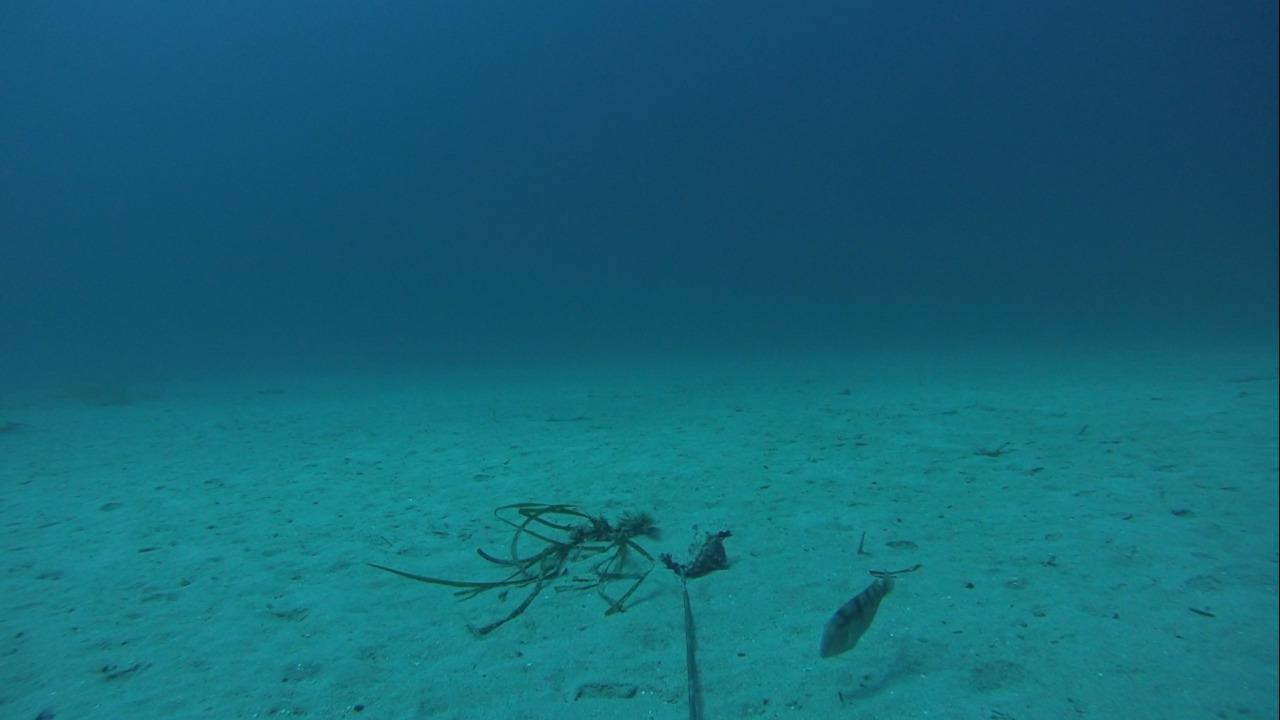raor: (815, 572, 900, 662)
